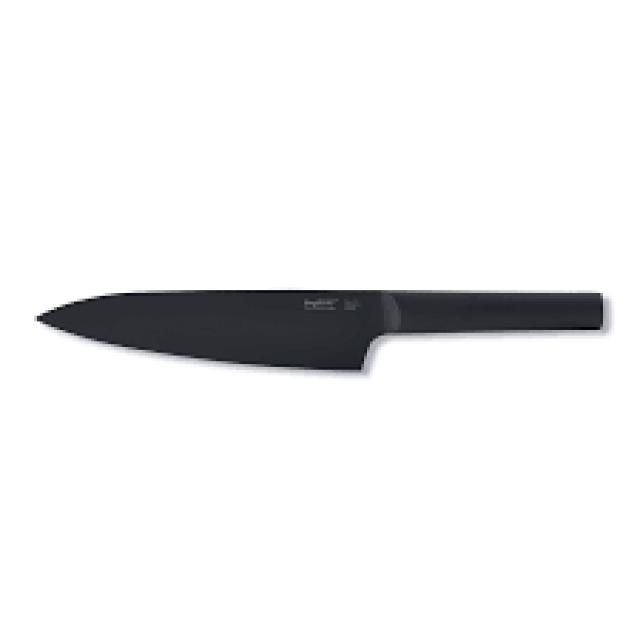knife: (35, 279, 615, 396)
